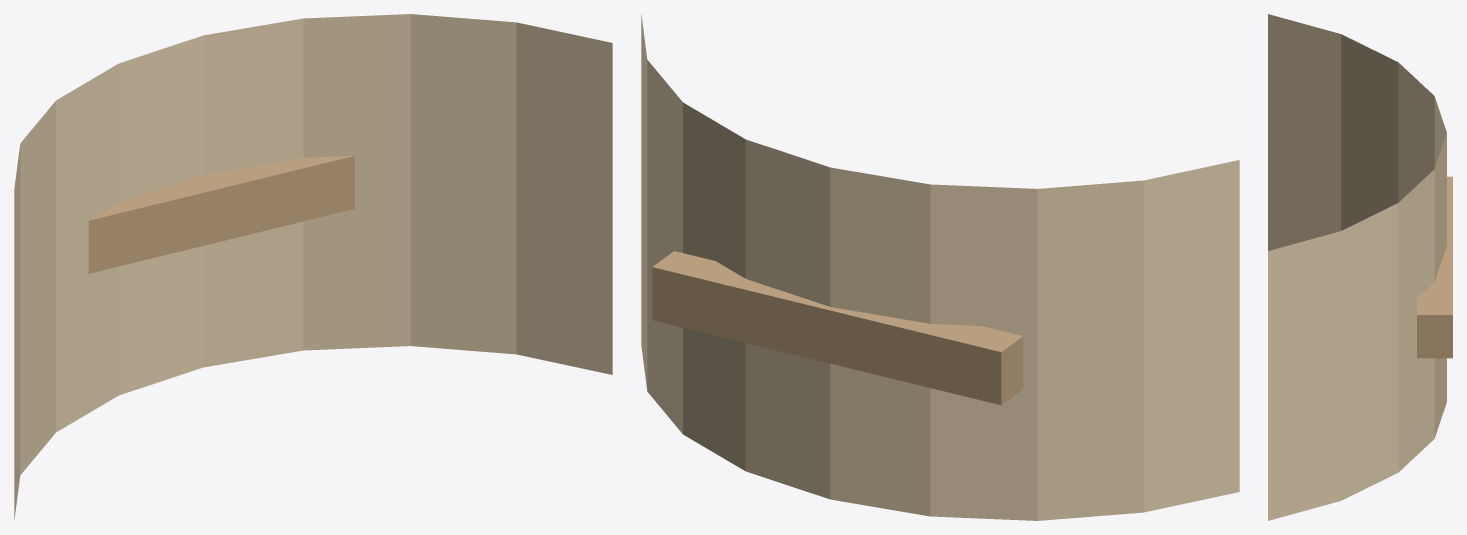
File: CutNotch.fbx
The picture shows the model from 3 angles, left to right: view 1: azimuth 30°, elevation 25°; view 2: azimuth 150°, elevation 25°; view 3: azimuth 270°, elevation 25°; orthographic projection. The views are drawn at different scales.
Visible parts, largest first — view 1: CutNotch_Mesh; view 2: CutNotch_Mesh; view 3: CutNotch_Mesh.
Part boxes in pixels (x1=…): CutNotch_Mesh: x1=14, y1=14, x2=612, y2=519; CutNotch_Mesh: x1=641, y1=15, x2=1239, y2=520; CutNotch_Mesh: x1=1268, y1=14, x2=1452, y2=520.
Size of the model in its own units: 1.89 by 1 by 0.6205.
